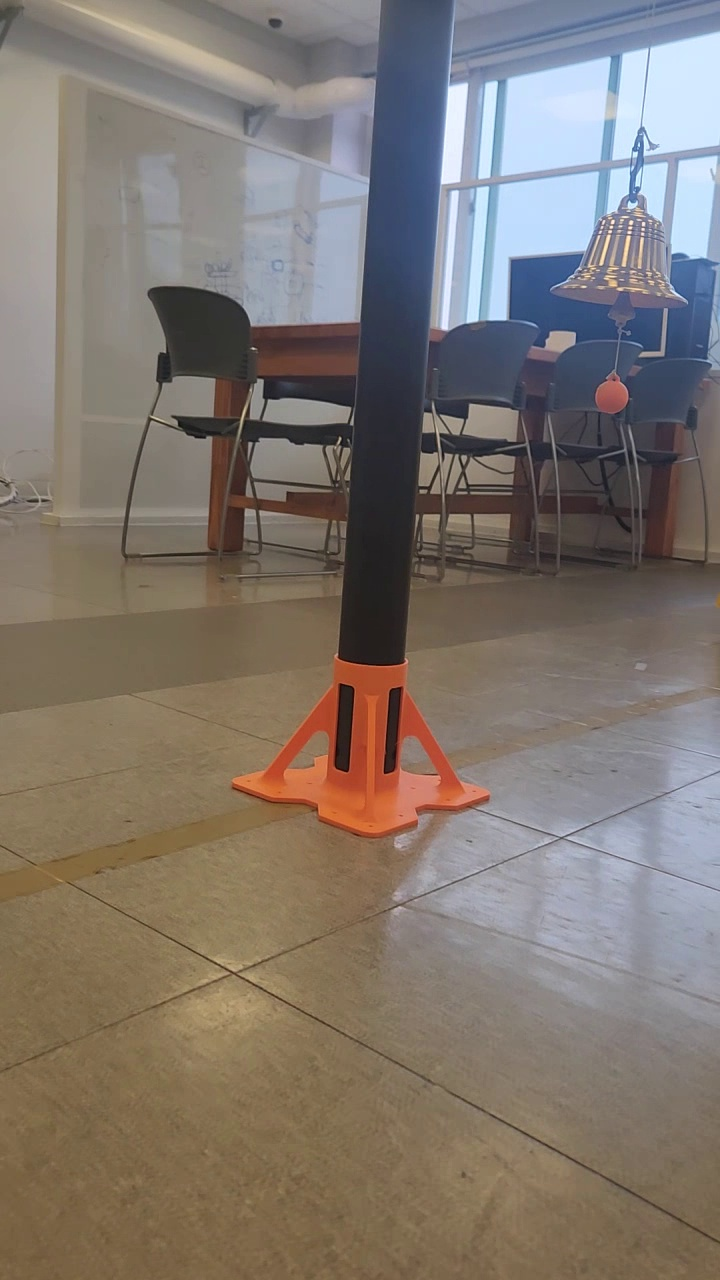bell: (546, 200, 693, 312)
pole: (336, 4, 456, 661)
